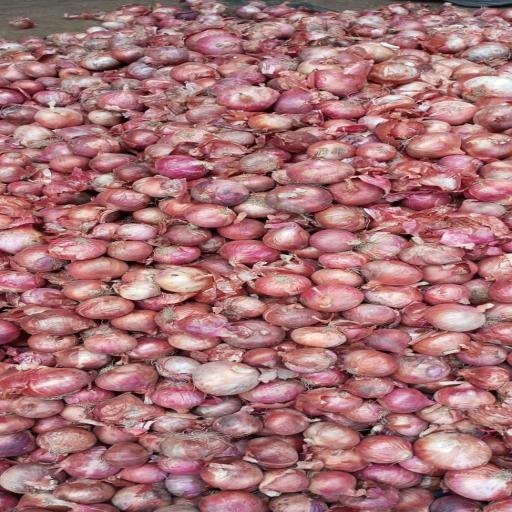damaged: (205, 364, 250, 396), (180, 431, 226, 458), (125, 488, 167, 512), (17, 467, 52, 493), (315, 427, 349, 449), (282, 189, 318, 208), (252, 157, 275, 173), (441, 499, 471, 511), (211, 403, 230, 414)
healthy: (212, 461, 273, 490), (430, 437, 482, 471), (20, 371, 84, 394), (300, 161, 350, 183), (372, 262, 413, 286), (263, 277, 299, 297), (438, 310, 476, 328), (374, 439, 402, 462), (317, 291, 354, 307), (396, 392, 424, 412), (115, 243, 144, 261), (323, 231, 351, 249), (117, 446, 142, 466), (196, 208, 224, 225), (97, 337, 127, 351), (56, 160, 87, 168)
rotten: (109, 404, 159, 422), (158, 159, 208, 176), (231, 88, 273, 108), (412, 358, 444, 384), (205, 181, 242, 203), (412, 242, 454, 261), (85, 300, 128, 317), (470, 370, 512, 386), (414, 136, 449, 154), (294, 351, 325, 371), (376, 234, 395, 257), (6, 107, 31, 121)
